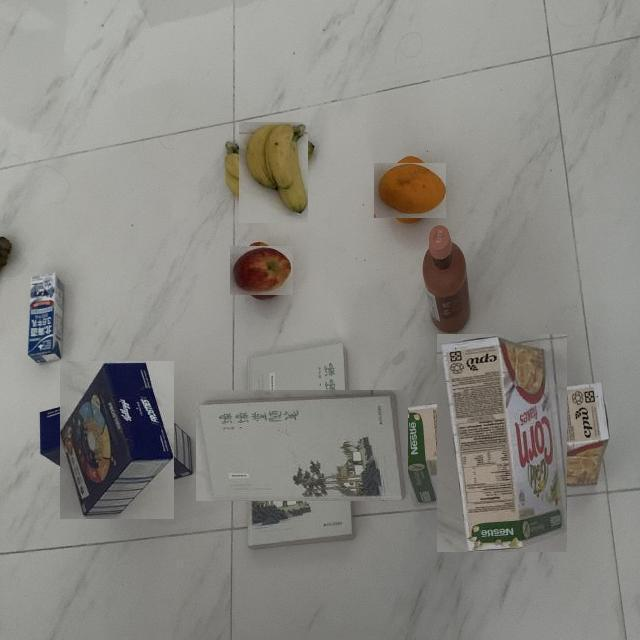Apple: (229, 246, 293, 295)
Banana: (238, 122, 308, 223)
Book: (196, 390, 408, 501)
Cerealbox: (437, 334, 567, 552), (60, 361, 174, 519)
Orange: (374, 164, 446, 218)
